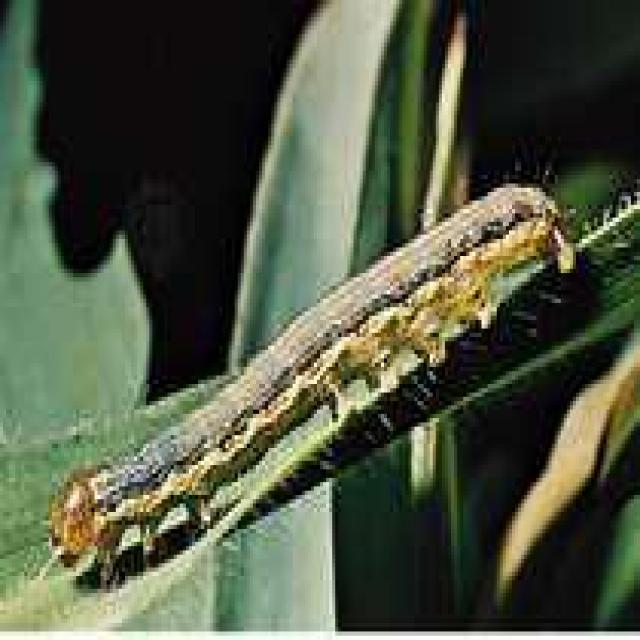armyworm: (34, 149, 595, 632)
